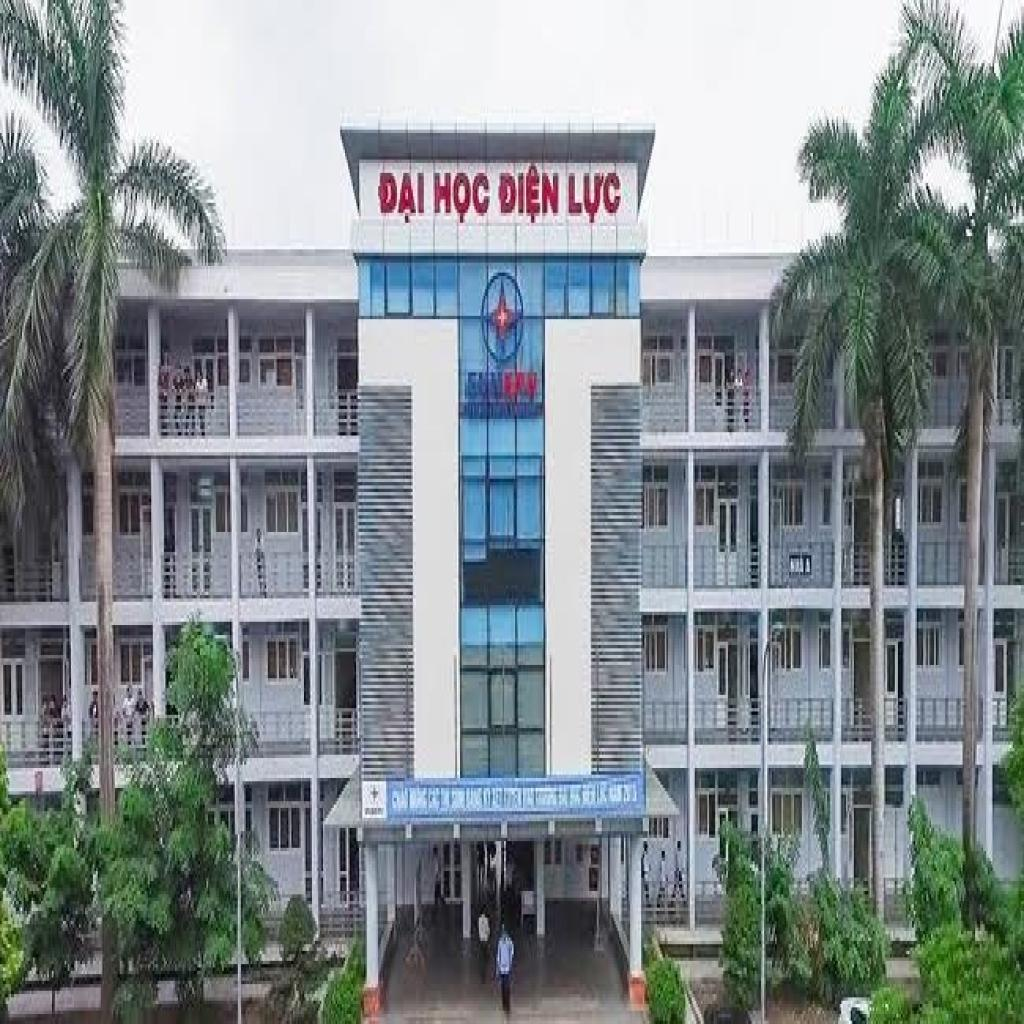text: (496, 163, 562, 229), (430, 166, 493, 230), (565, 166, 624, 230), (375, 163, 427, 229)
